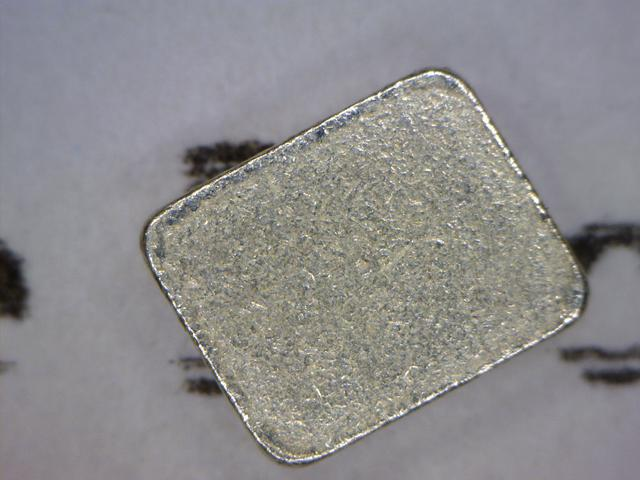ok: (140, 62, 597, 469)
